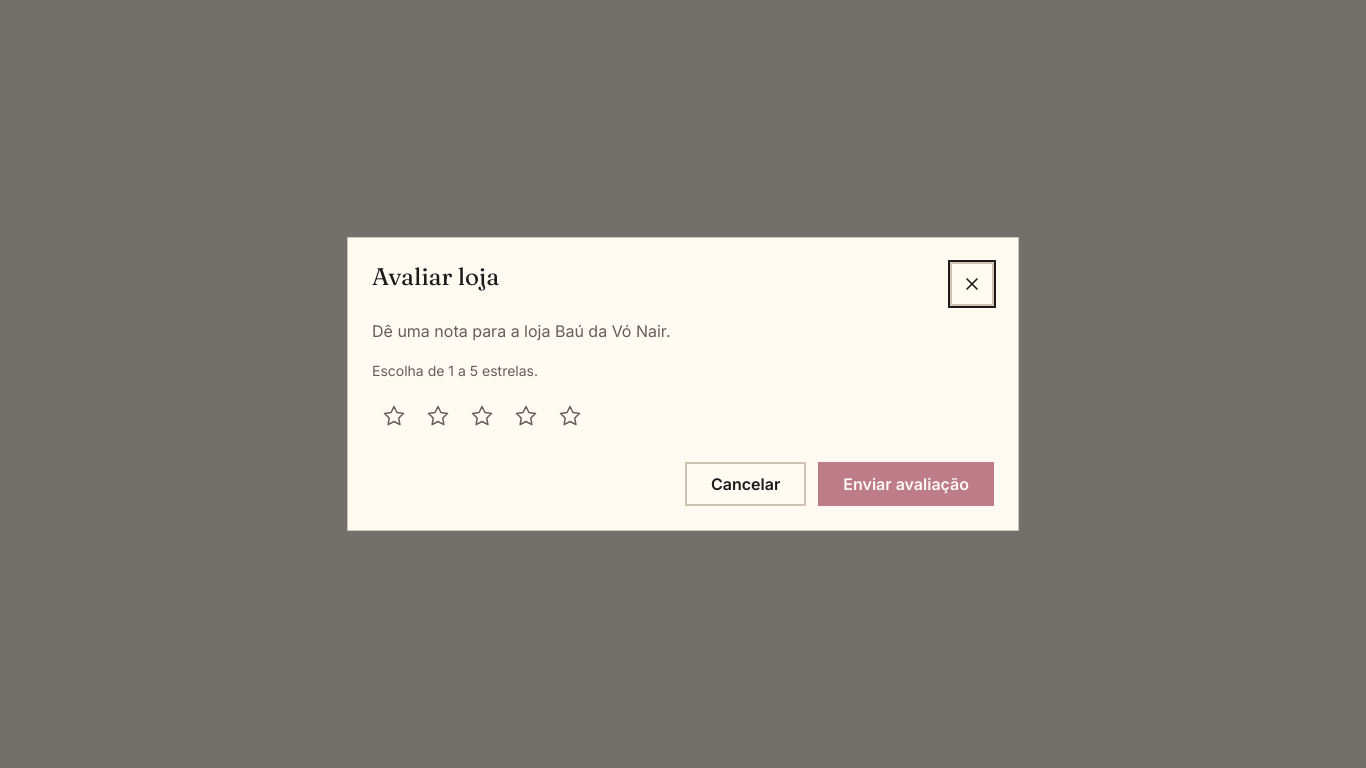
Scenario: <RateStoreDialog /> › 409 ALREADY_RATED é "já avaliado", não erro
Click the radio button named "5 de 5 estrelas" at coordinates (570, 416), box [548,394,592,438]
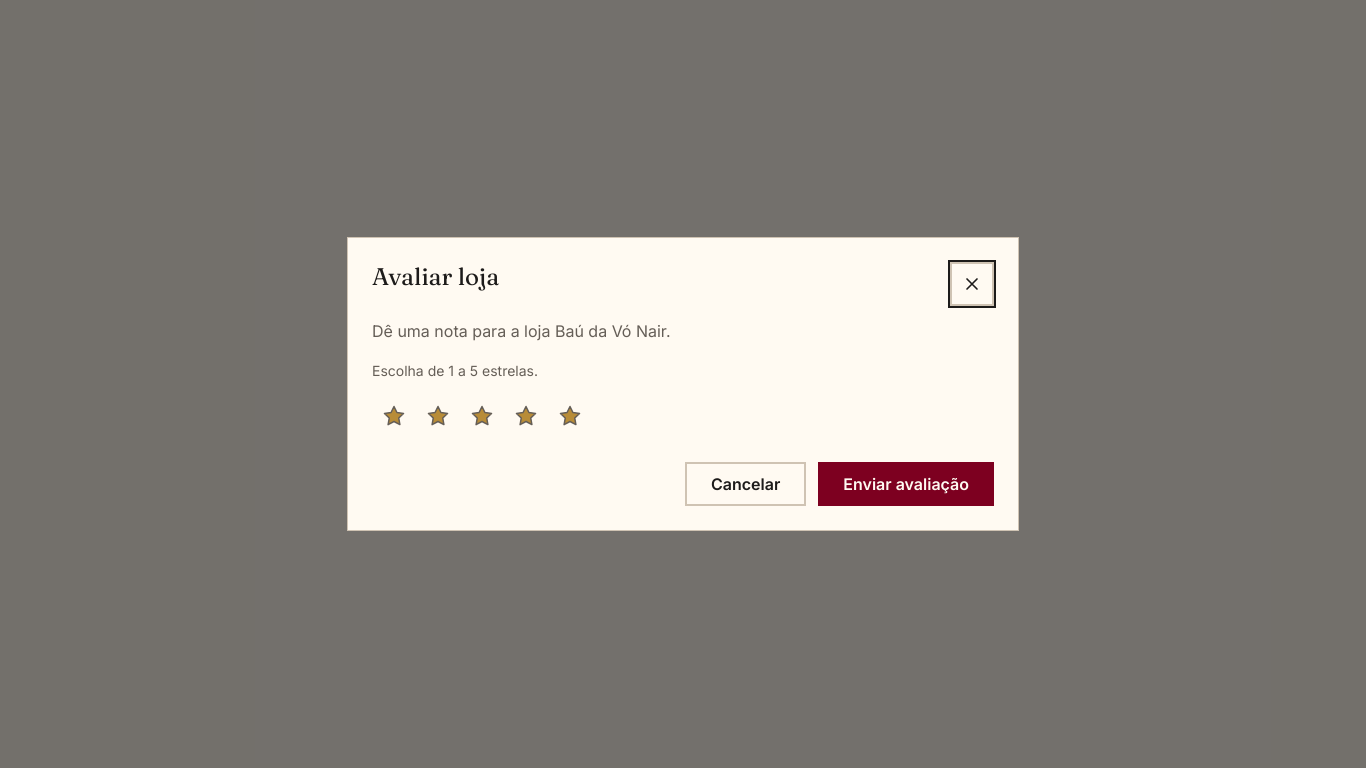
Click the button "Enviar avaliação" at coordinates (906, 484), box [818,462,994,506]
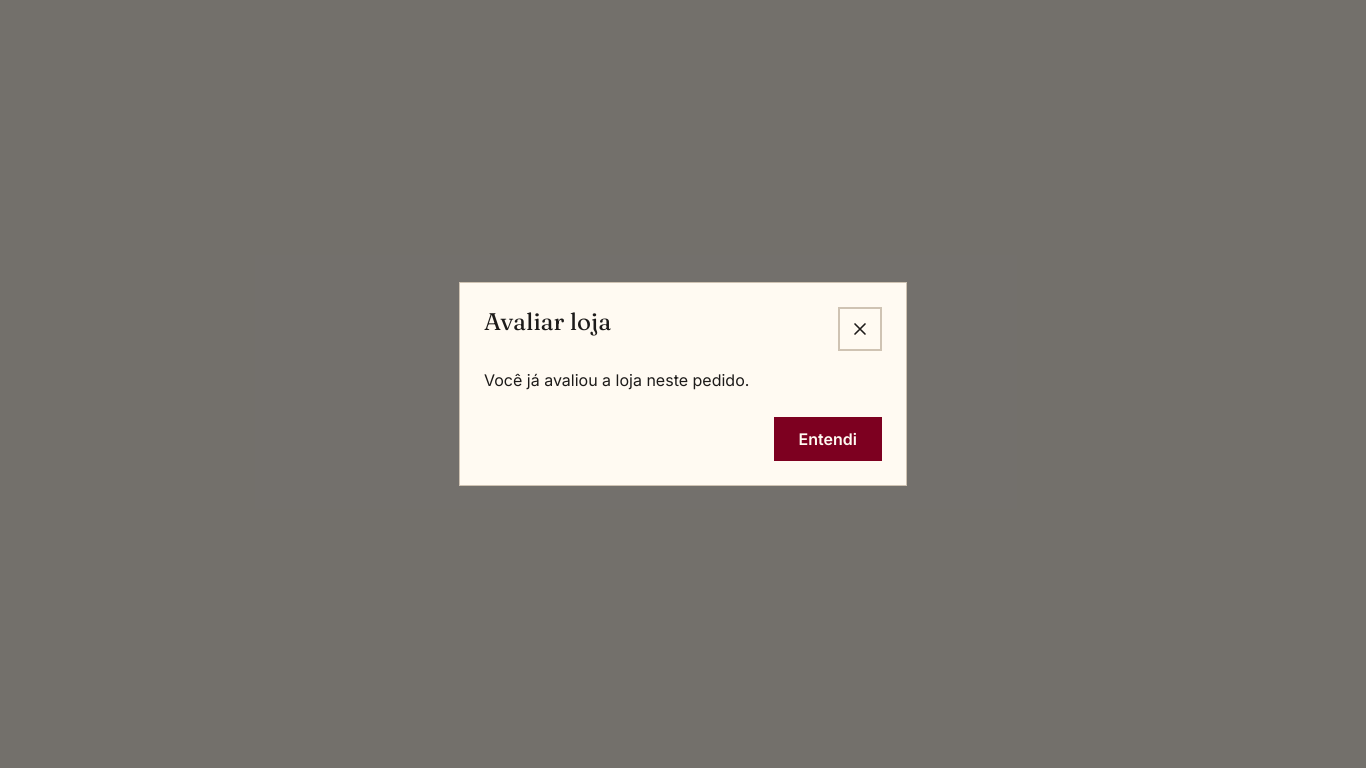
Check: the message reads "Você já avaliou a loja neste pedido.", box [484,370,749,390]
